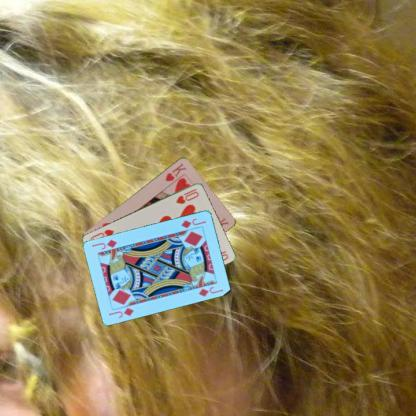10h: (173, 186, 200, 205)
Jd: (107, 304, 136, 319), (178, 216, 208, 230)
Kh: (162, 160, 188, 183)
